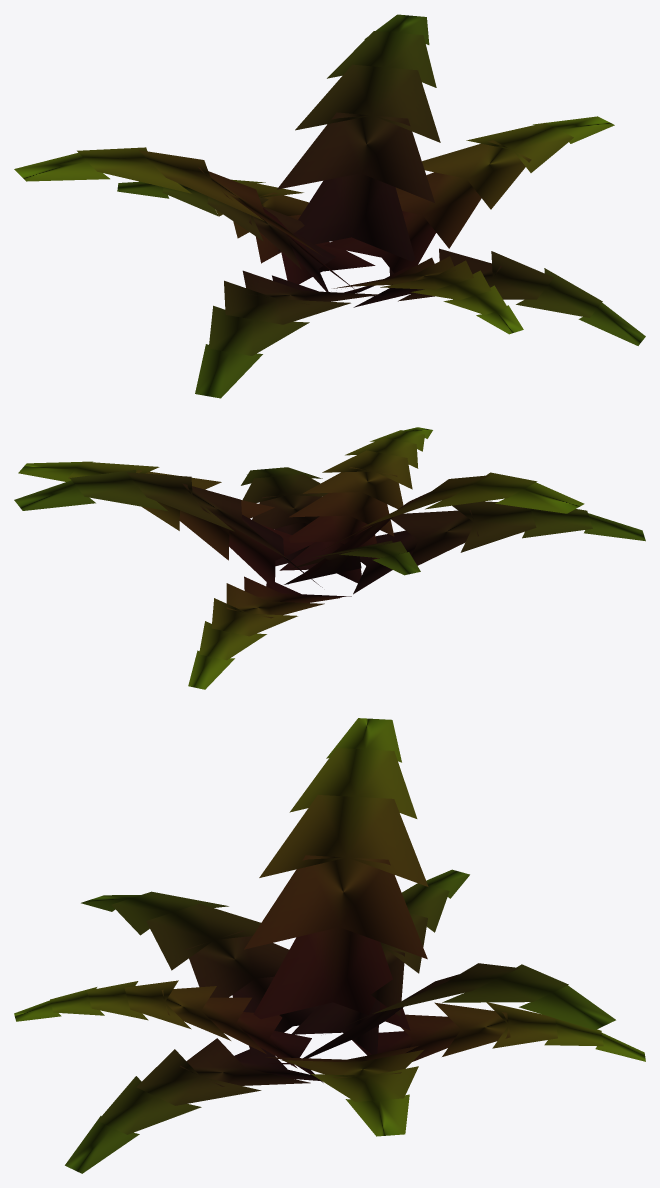
The model's file is fern_a.glb.
3 views of the same model, one above another, from view 1: azimuth 30°, elevation 25°; view 2: azimuth 150°, elevation 25°; view 3: azimuth 270°, elevation 25° (orthographic). The views are drawn at different scales.
Parts seen in each view (by area): view 1: fern_a; view 2: fern_a; view 3: fern_a.
Part boxes in pixels (x1,y1,x2,y2): fern_a: [14, 14, 645, 398]; fern_a: [14, 427, 645, 689]; fern_a: [14, 718, 645, 1173].
Bounding box in the file's own units: 2.05 × 0.6023 × 1.74.
1 material, 1 textured.
